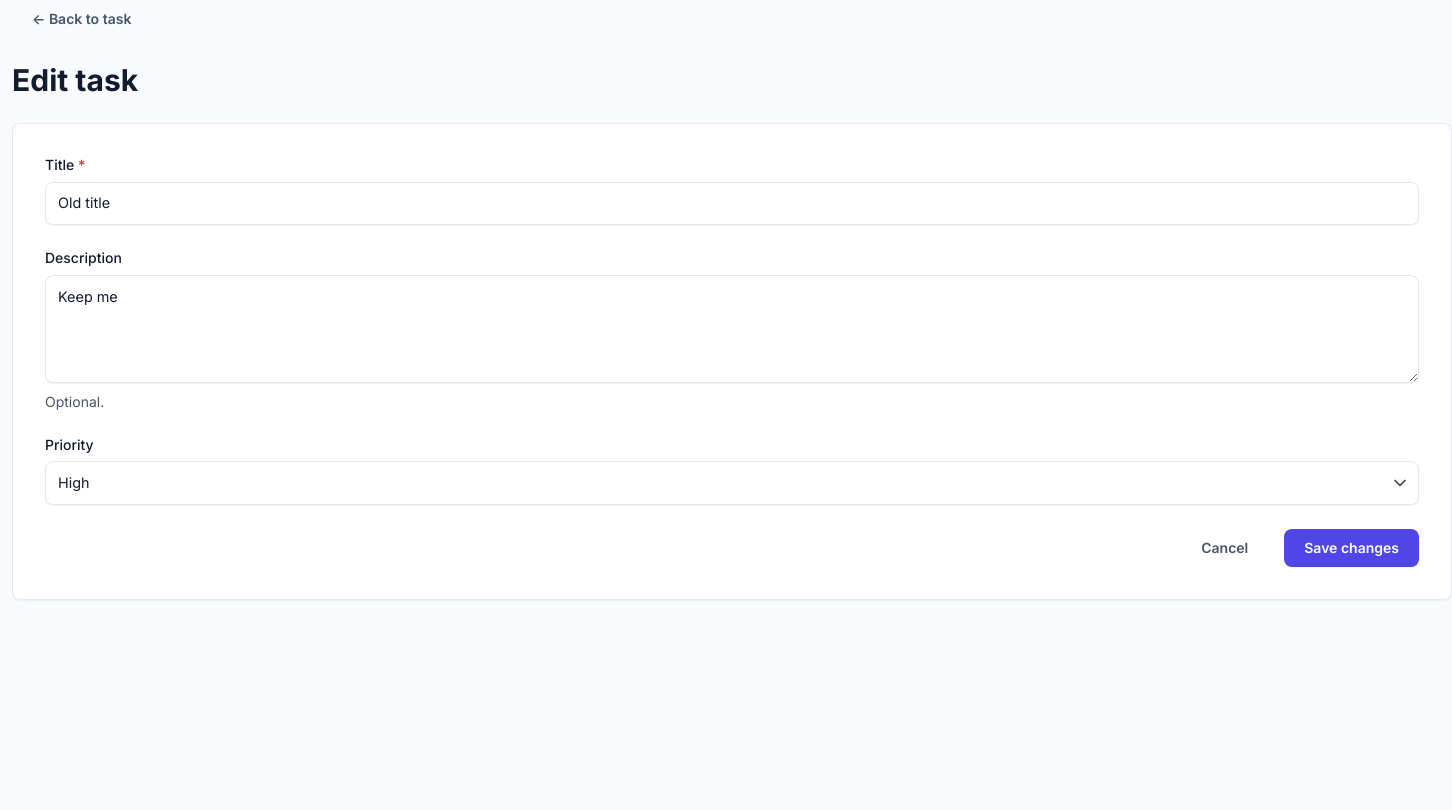
it: TaskEditPage › renders a 422 detail verbatim, as the string this backend sends
Replace the text in the field labelled "Title *" with "Too long": (732, 203) [45, 182, 1419, 225]
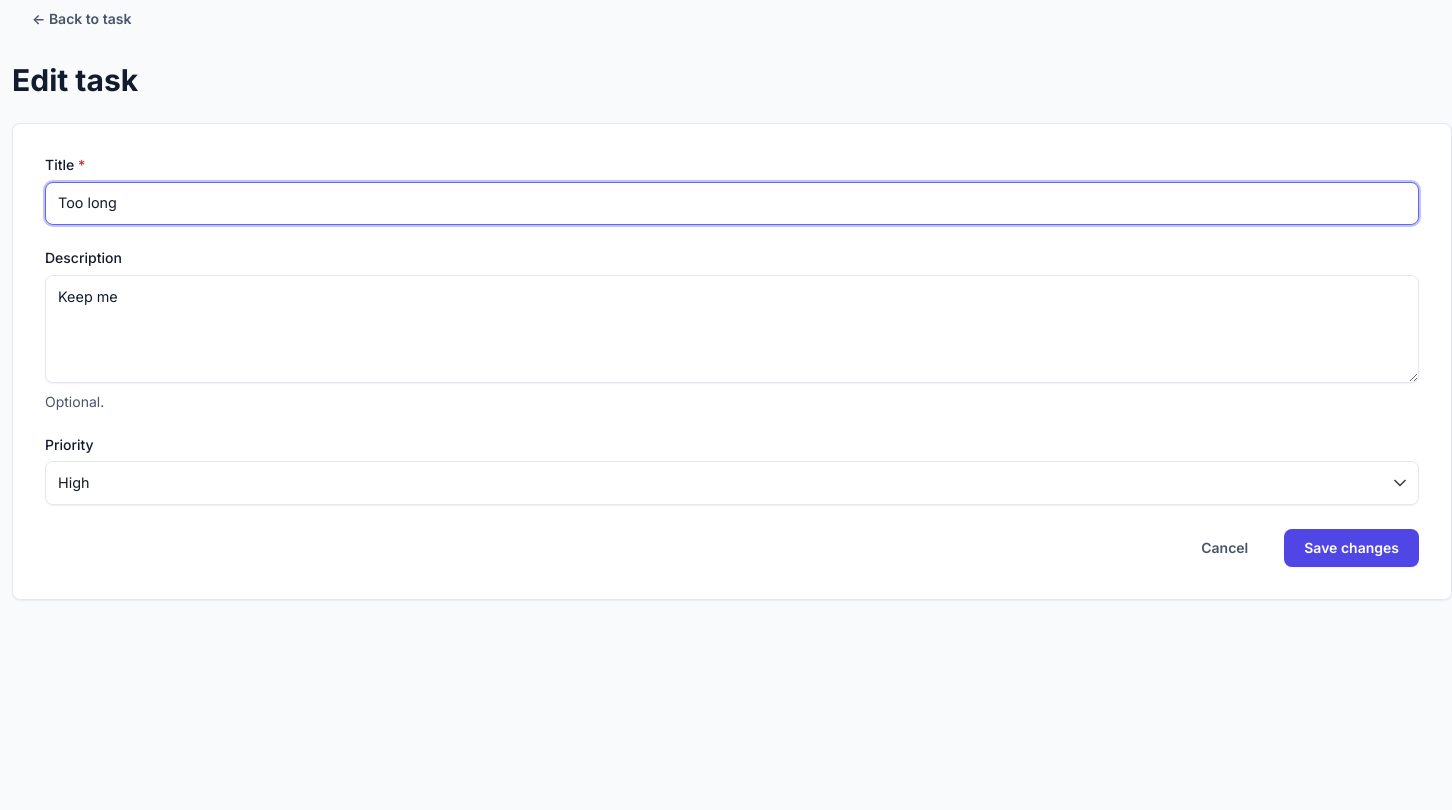
Click the button "Save changes": (1352, 548) [1284, 529, 1419, 566]
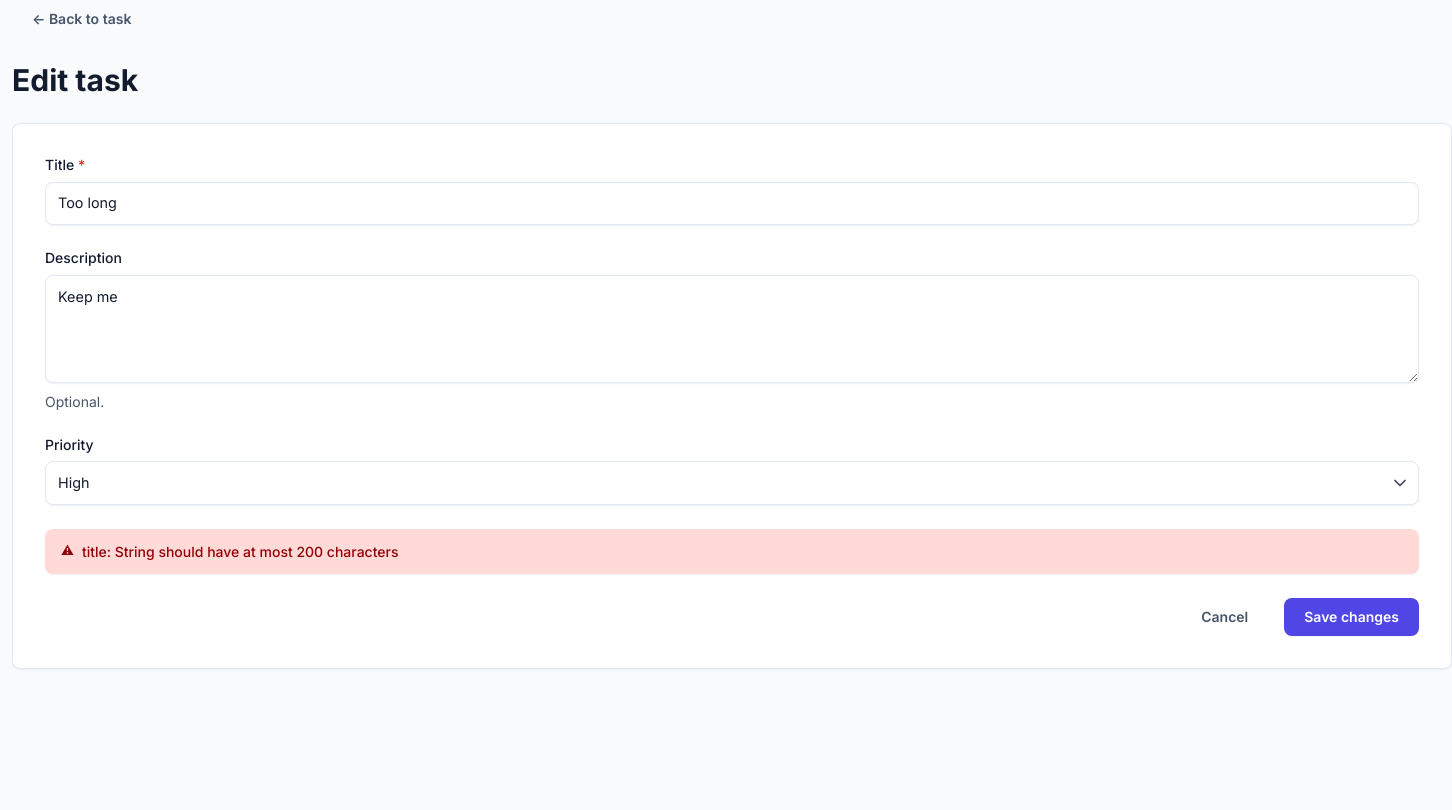
Check: the message shows "title: String should have at most 200 characters", box [82, 543, 398, 560]
